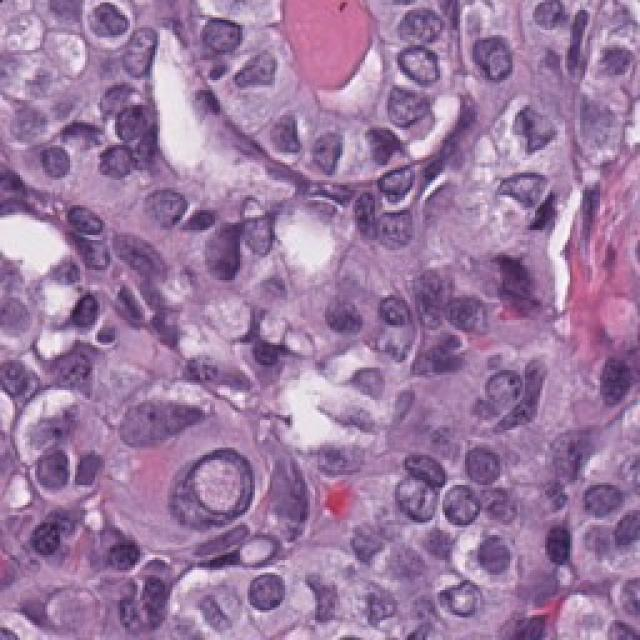abnormal: (105, 210, 199, 328), (158, 428, 259, 537), (338, 97, 422, 201), (193, 186, 256, 314), (12, 126, 99, 218), (114, 381, 227, 450), (12, 572, 122, 640), (226, 566, 322, 638), (476, 168, 583, 232), (485, 91, 574, 162), (204, 44, 314, 101), (364, 70, 456, 137), (49, 327, 119, 414), (364, 283, 433, 364), (432, 572, 512, 640), (379, 458, 457, 527), (87, 75, 161, 145), (137, 178, 193, 270), (574, 466, 635, 546), (260, 89, 306, 192), (181, 7, 267, 57), (464, 429, 516, 505), (85, 4, 155, 60), (214, 522, 287, 573), (389, 39, 459, 92), (309, 107, 347, 201), (37, 437, 87, 506), (460, 34, 514, 97), (472, 366, 534, 419), (585, 37, 640, 95), (433, 483, 479, 537)
